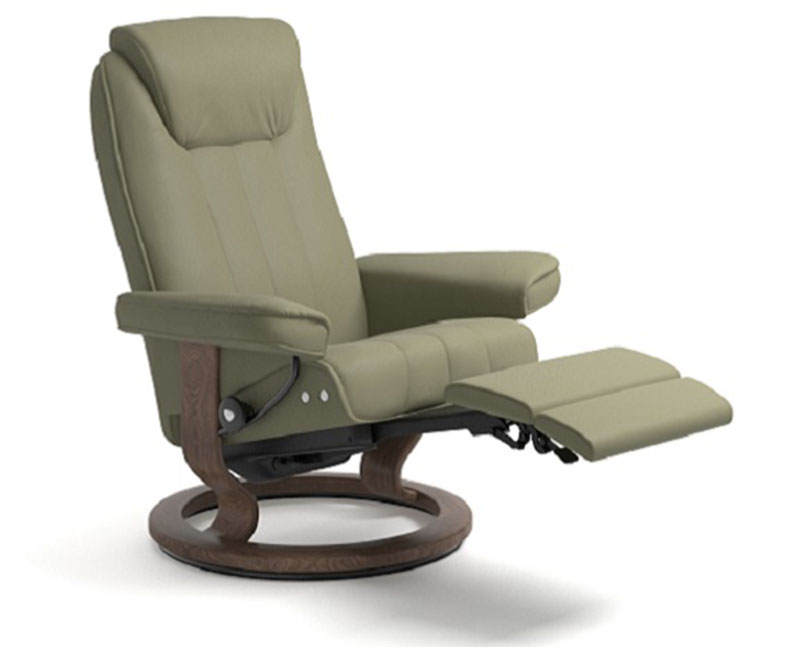chairs: (89, 18, 735, 578)
